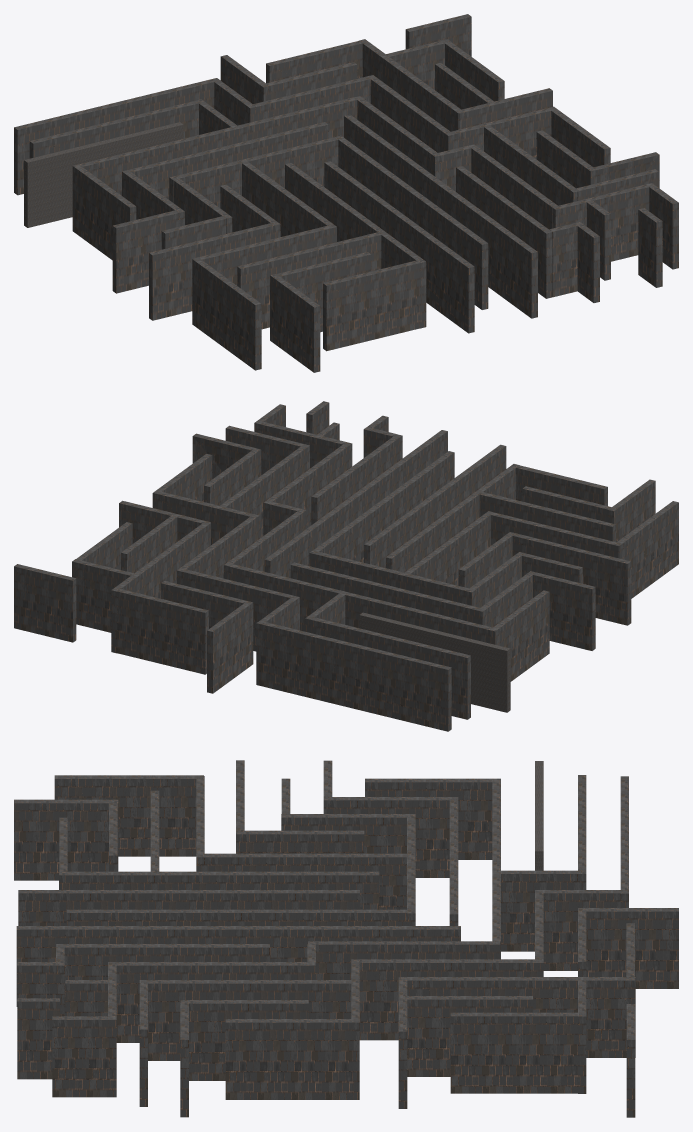
The model's file is Phase0new.fbx.
The picture shows the model from 3 angles, top to bottom: view 1: azimuth 30°, elevation 25°; view 2: azimuth 150°, elevation 25°; view 3: azimuth 270°, elevation 25°; orthographic projection. The views are drawn at different scales.
Parts seen in each view (by area): view 1: wall__29_, wall__42_, wall__36_, wall__30_, wall__39_, wall__33_, wall__46_, wall__49_, wall__7_, wall__40_, wall__41_, wall__37_ (+41 smaller); view 2: wall__7_, wall__6_, wall__30_, wall__29_, wall__33_, wall__39_, wall__36_, wall__49_, wall, wall__32_, wall__46_, wall__38_ (+38 smaller); view 3: wall__2_, wall__10_, wall__29_, wall__3_, wall__36_, wall__46_, wall__45_, wall__8_, wall__22_, wall__41_, wall__14_, wall__39_ (+35 smaller).
Boxes of the visible parts, bbox=[...] form: wall__29_: bbox=[344, 114, 537, 318]; wall__42_: bbox=[323, 260, 419, 351]; wall__36_: bbox=[324, 161, 474, 333]; wall__30_: bbox=[72, 97, 357, 233]; wall__39_: bbox=[338, 138, 488, 309]; wall__33_: bbox=[24, 122, 183, 227]; wall__46_: bbox=[192, 257, 261, 370]; wall__49_: bbox=[149, 223, 277, 320]; wall__7_: bbox=[14, 78, 220, 195]; wall__40_: bbox=[169, 135, 343, 207]; wall__41_: bbox=[285, 163, 426, 328]; wall__37_: bbox=[122, 122, 328, 199]; wall__7_: bbox=[256, 621, 451, 731]; wall__6_: bbox=[117, 589, 208, 674]; wall__30_: bbox=[229, 564, 498, 645]; wall__29_: bbox=[264, 430, 447, 577]; wall__33_: bbox=[359, 612, 510, 712]; wall__39_: bbox=[312, 451, 454, 562]; wall__36_: bbox=[364, 444, 506, 567]; wall__49_: bbox=[512, 533, 631, 625]; wall: bbox=[14, 564, 76, 642]; wall__32_: bbox=[305, 616, 470, 719]; wall__46_: bbox=[616, 501, 678, 598]; wall__38_: bbox=[528, 571, 595, 650]; wall__2_: bbox=[450, 1012, 578, 1093]; wall__10_: bbox=[225, 1019, 353, 1099]; wall__29_: bbox=[16, 926, 460, 1006]; wall__3_: bbox=[400, 977, 635, 1057]; wall__36_: bbox=[18, 890, 359, 925]; wall__46_: bbox=[54, 775, 203, 856]; wall__45_: bbox=[14, 799, 118, 880]; wall__8_: bbox=[139, 980, 353, 1060]; wall__22_: bbox=[583, 908, 678, 988]; wall__41_: bbox=[59, 871, 379, 909]; wall__14_: bbox=[351, 959, 543, 1040]; wall__39_: bbox=[66, 909, 406, 925].
Bounding box in the file's own units: 30990 × 4167 × 31135.
Materials: 1 (1 with a texture image).
